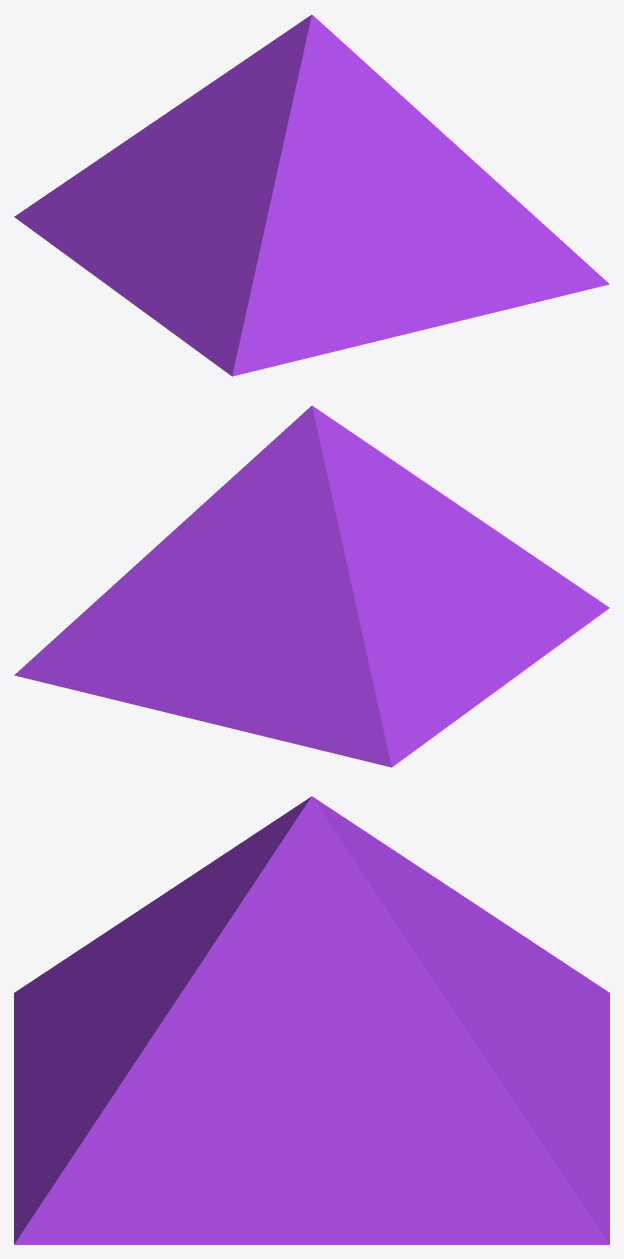
Rendered from Window_26_chunks.fbx.
3 renders of one model, top to bottom at view 1: azimuth 30°, elevation 25°; view 2: azimuth 150°, elevation 25°; view 3: azimuth 270°, elevation 25°, orthographic. The views are drawn at different scales.
Parts seen in each view (by area): view 1: Window_26_10, Window_26_8, Window_26_2, Window_26_4, Window_26_9, Window_26_16, Window_26_6, Window_26_0, Window_26_3, Window_26_17, Window_26_18, Window_26_15 (+1 smaller); view 2: Window_26_0, Window_26_13, Window_26_10, Window_26_2, Window_26_3, Window_26_9, Window_26_14, Window_26_1, Window_26_12, Window_26_18; view 3: Window_26_11, Window_26_13, Window_26_14, Window_26_8, Window_26_9, Window_26_6, Window_26_0, Window_26_4, Window_26_10, Window_26_3, Window_26_5, Window_26_16 (+5 smaller).
Part boxes in pixels (x1=…): Window_26_10: x1=178, y1=81, x2=314, y2=357; Window_26_8: x1=302, y1=83, x2=513, y2=249; Window_26_2: x1=52, y1=160, x2=204, y2=336; Window_26_4: x1=310, y1=231, x2=527, y2=357; Window_26_9: x1=216, y1=14, x2=387, y2=109; Window_26_16: x1=305, y1=235, x2=446, y2=342; Window_26_6: x1=493, y1=201, x2=609, y2=304; Window_26_0: x1=14, y1=130, x2=142, y2=244; Window_26_3: x1=139, y1=76, x2=221, y2=177; Window_26_17: x1=264, y1=223, x2=372, y2=311; Window_26_18: x1=207, y1=302, x2=281, y2=376; Window_26_15: x1=267, y1=309, x2=328, y2=367; Window_26_0: x1=193, y1=609, x2=429, y2=767; Window_26_13: x1=14, y1=527, x2=242, y2=712; Window_26_10: x1=364, y1=443, x2=584, y2=646; Window_26_2: x1=384, y1=567, x2=555, y2=739; Window_26_3: x1=260, y1=515, x2=421, y2=624; Window_26_9: x1=264, y1=405, x2=366, y2=532; Window_26_14: x1=178, y1=448, x2=295, y2=556; Window_26_1: x1=167, y1=573, x2=283, y2=718; Window_26_12: x1=241, y1=544, x2=278, y2=599; Window_26_18: x1=579, y1=587, x2=609, y2=625; Window_26_11: x1=126, y1=1061, x2=480, y2=1244; Window_26_13: x1=393, y1=965, x2=609, y2=1244; Window_26_14: x1=165, y1=867, x2=457, y2=1077; Window_26_8: x1=78, y1=842, x2=249, y2=1100; Window_26_9: x1=207, y1=796, x2=413, y2=1018; Window_26_6: x1=14, y1=1106, x2=144, y2=1244; Window_26_0: x1=482, y1=908, x2=609, y2=1124; Window_26_4: x1=14, y1=1045, x2=89, y2=1189; Window_26_10: x1=45, y1=833, x2=256, y2=972; Window_26_3: x1=403, y1=856, x2=494, y2=967; Window_26_5: x1=96, y1=1173, x2=189, y2=1244; Window_26_16: x1=23, y1=1005, x2=106, y2=1081.
Bounding box in the file's own units: 2495 × 1491 × 2495.
